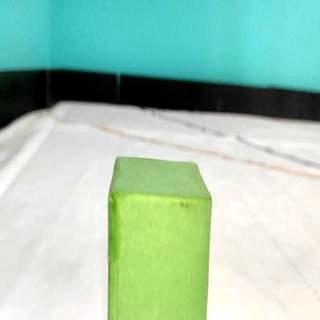greenbox: (104, 153, 215, 320)
